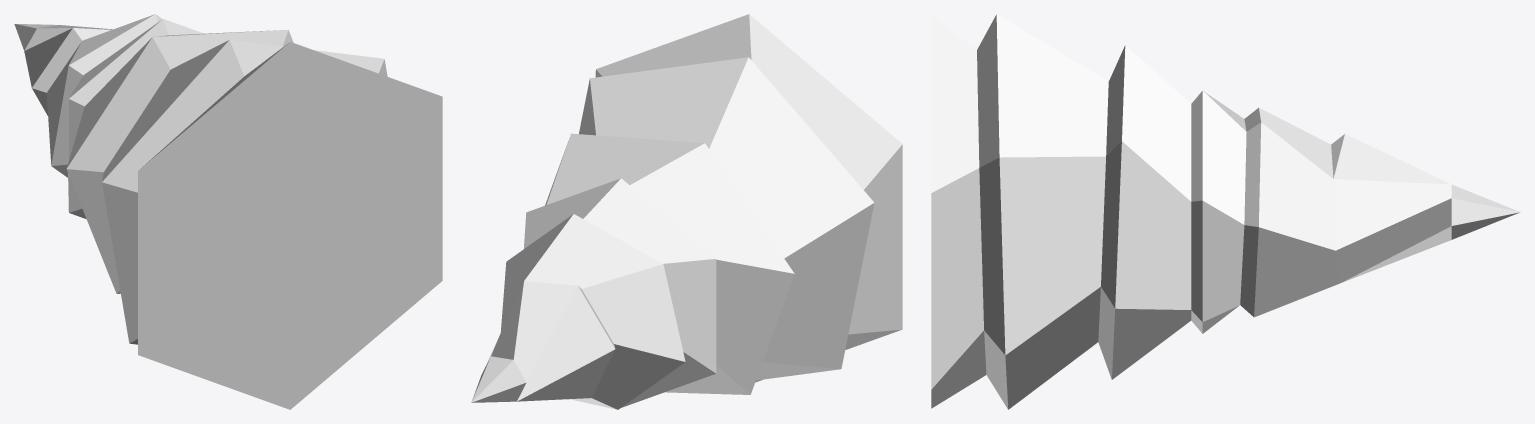
Rendered from winter_night_tree_1.fbx.
The picture shows the model from 3 angles, left to right: view 1: azimuth 30°, elevation 25°; view 2: azimuth 150°, elevation 25°; view 3: azimuth 270°, elevation 25°; orthographic projection. The views are drawn at different scales.
Visible parts, largest first — view 1: winter_night_tree_1; view 2: winter_night_tree_1; view 3: winter_night_tree_1.
Boxes of the visible parts, <box> form: winter_night_tree_1: <box>14,14,442,409</box>; winter_night_tree_1: <box>471,14,902,409</box>; winter_night_tree_1: <box>931,14,1520,409</box>.
Size of the model in its own units: 92.52 by 104 by 141.
